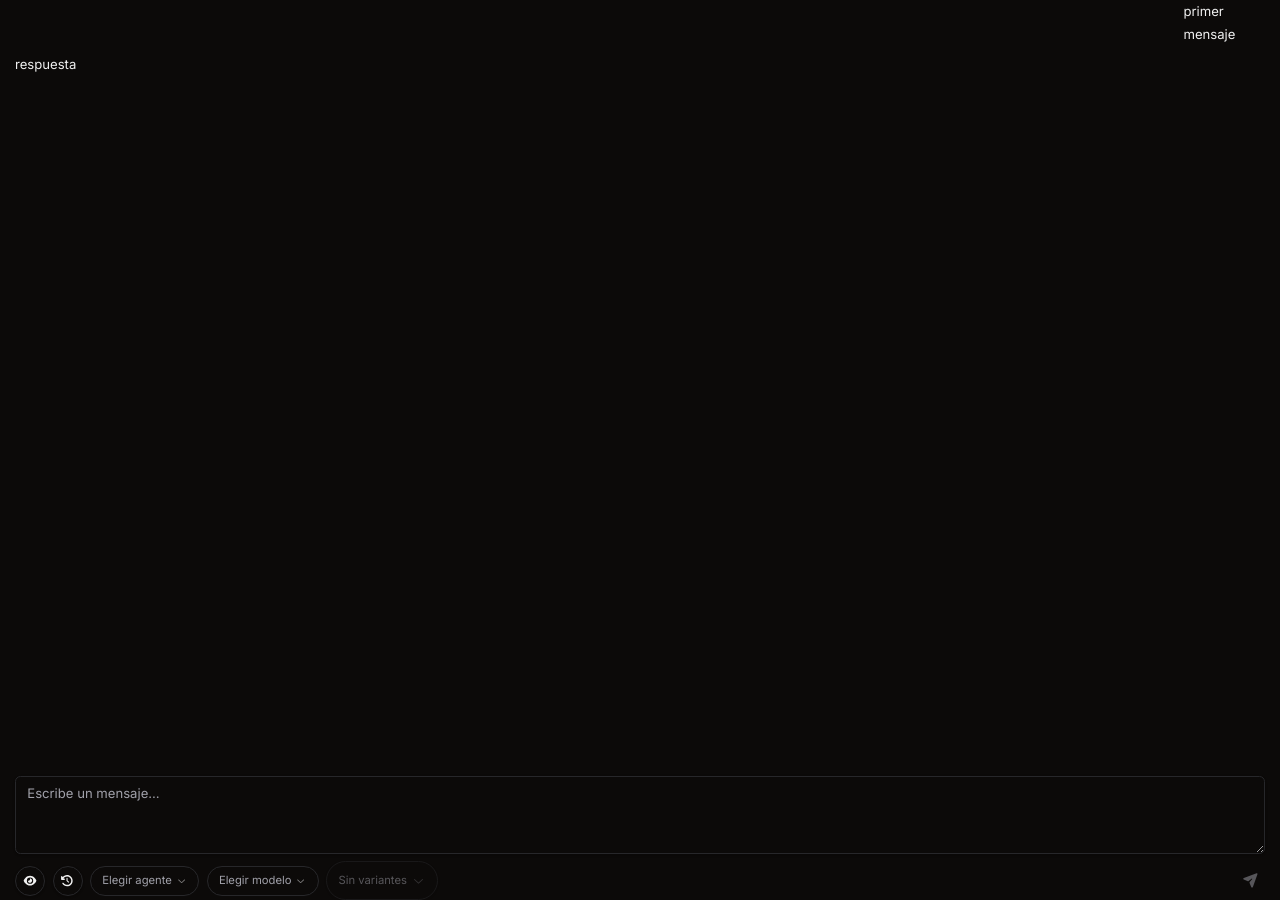
Test: ChatPanel — historial en modal (U2) › abre el modal con todos los mensajes etiquetados por autor
What coordinates should you click on to do the following:
click the button named "Historial de mensajes"
I would click on:
 (68, 880)
Its box is [52, 866, 82, 896].
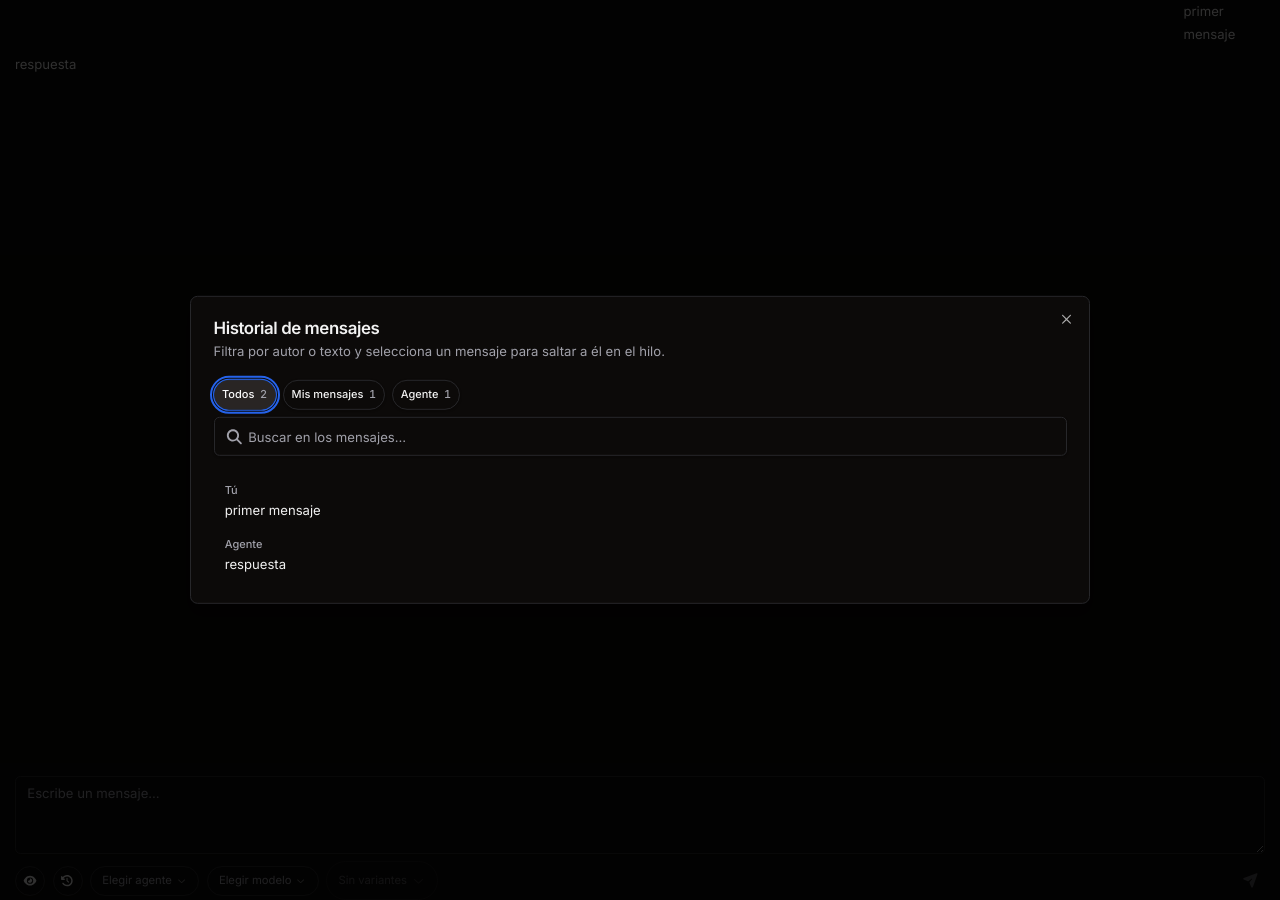
Expected: the number of buttons with test id "chat-history-item" is 2, [214, 475, 1063, 527]; [214, 529, 1063, 581]
Expected: the text "Tú" is shown, [225, 482, 238, 499]
Expected: the text "primer mensaje" is shown, [225, 501, 321, 517]
